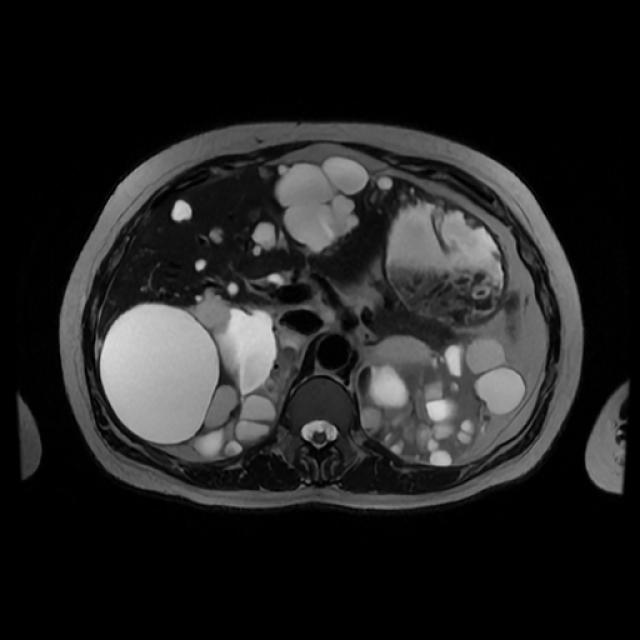sag: (97, 286, 310, 460)
sol: (357, 332, 529, 465)
